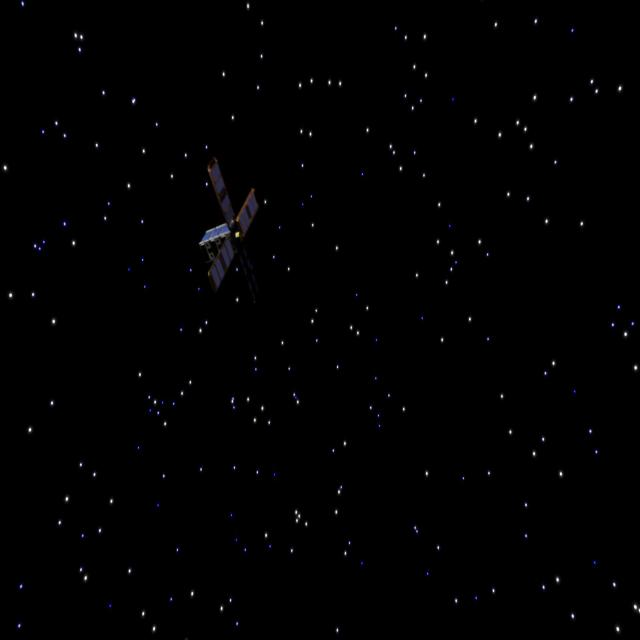medium_debris: (189, 158, 277, 306)
